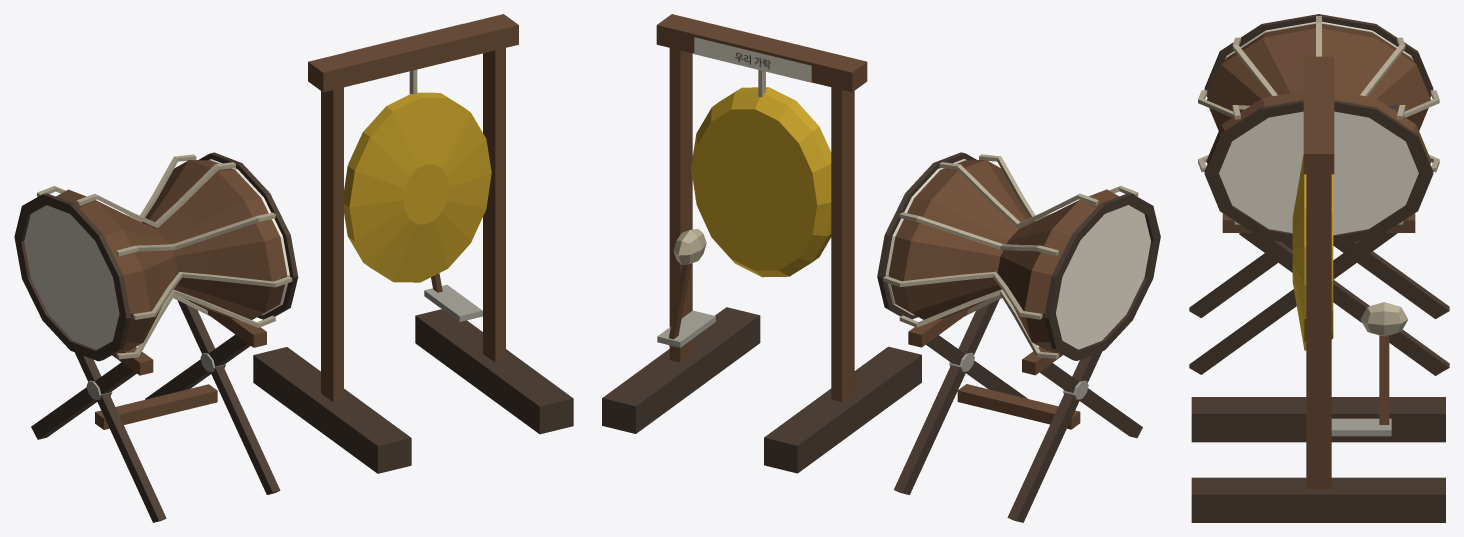
The model's file is P04_Janggu_Jing_Station.fbx.
The picture shows the model from 3 angles, left to right: view 1: azimuth 30°, elevation 25°; view 2: azimuth 150°, elevation 25°; view 3: azimuth 270°, elevation 25°; orthographic projection. The views are drawn at different scales.
Parts seen in each view (by area): view 1: Janggu, Jing_Stand, Jing, Janggu_Stand; view 2: Janggu, Jing_Stand, Jing, Janggu_Stand, Front_Label, Mallet; view 3: Janggu, Jing_Stand, Janggu_Stand, Jing, Mallet.
Part boxes in pixels (bbox=[...]): Janggu: bbox=[14, 152, 298, 361]; Jing_Stand: bbox=[253, 14, 573, 473]; Jing: bbox=[344, 92, 491, 282]; Janggu_Stand: bbox=[31, 298, 280, 522]; Janggu: bbox=[877, 152, 1160, 360]; Jing_Stand: bbox=[602, 14, 921, 473]; Jing: bbox=[691, 87, 831, 277]; Janggu_Stand: bbox=[894, 297, 1142, 522]; Front_Label: bbox=[694, 37, 811, 82]; Mallet: bbox=[668, 229, 706, 346]; Janggu: bbox=[1198, 14, 1439, 245]; Jing_Stand: bbox=[1191, 56, 1445, 522]; Janggu_Stand: bbox=[1189, 213, 1449, 375]; Jing: bbox=[1292, 155, 1333, 350]; Mallet: bbox=[1360, 302, 1408, 424].
Bounding box in the file's own units: 2.3 × 1.8 × 1.15.
7 materials, 1 textured.
